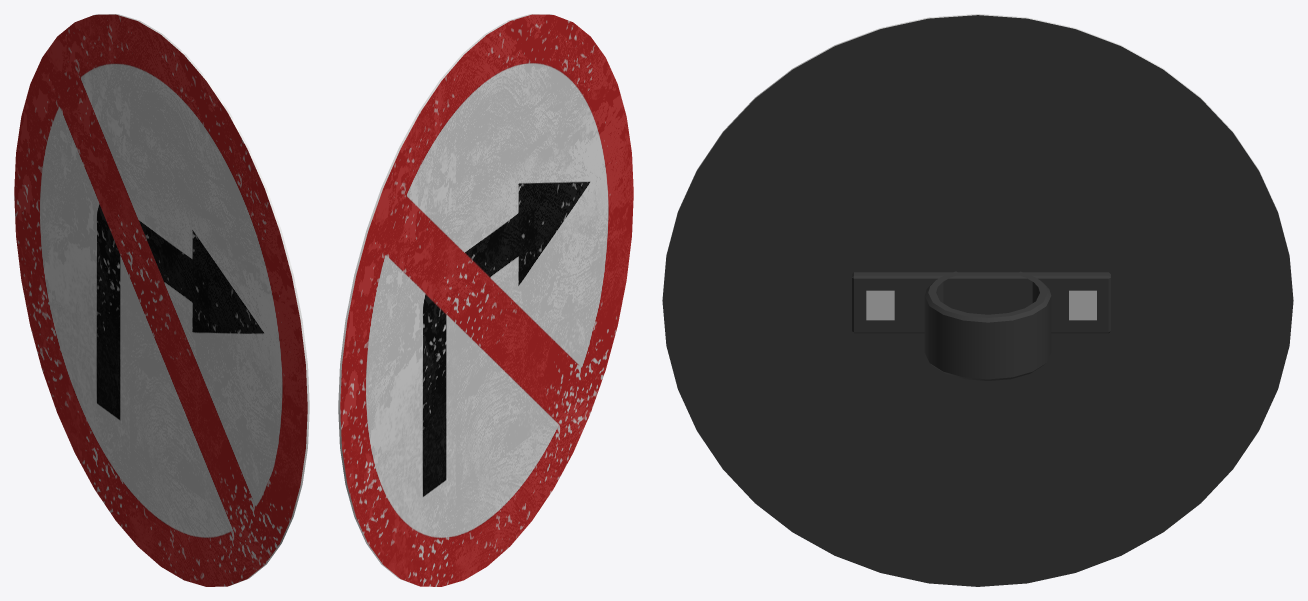
Rendered from SM_TraficPlate_01.fbx.
The picture shows the model from 3 angles, left to right: view 1: azimuth 30°, elevation 25°; view 2: azimuth 150°, elevation 25°; view 3: azimuth 270°, elevation 25°; orthographic projection. The views are drawn at different scales.
Parts seen in each view (by area): view 1: SM_TraficPlate_01_LOD0; view 2: SM_TraficPlate_01_LOD0; view 3: SM_TraficPlate_01_LOD0.
Boxes of the visible parts, x1,y1,x2,y2 form: SM_TraficPlate_01_LOD0: (14,14,309,586); SM_TraficPlate_01_LOD0: (338,14,633,586); SM_TraficPlate_01_LOD0: (662,14,1293,586).
Bounding box in the file's own units: 19.2 × 100 × 100.
